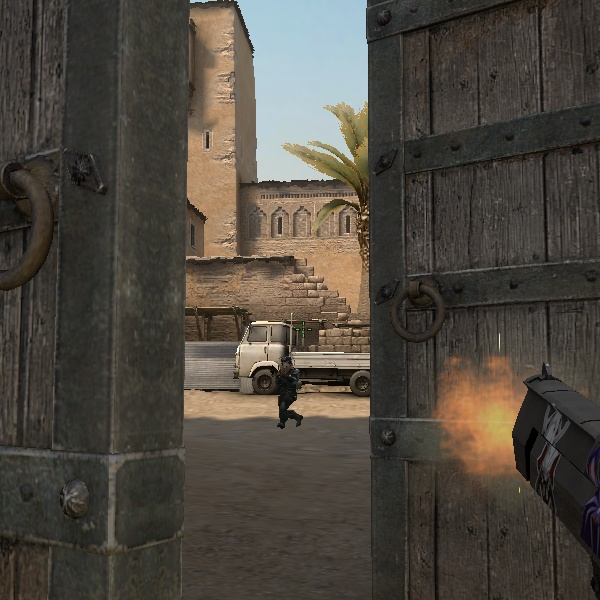ct_body: (264, 353, 309, 431)
ct_head: (276, 353, 297, 374)
